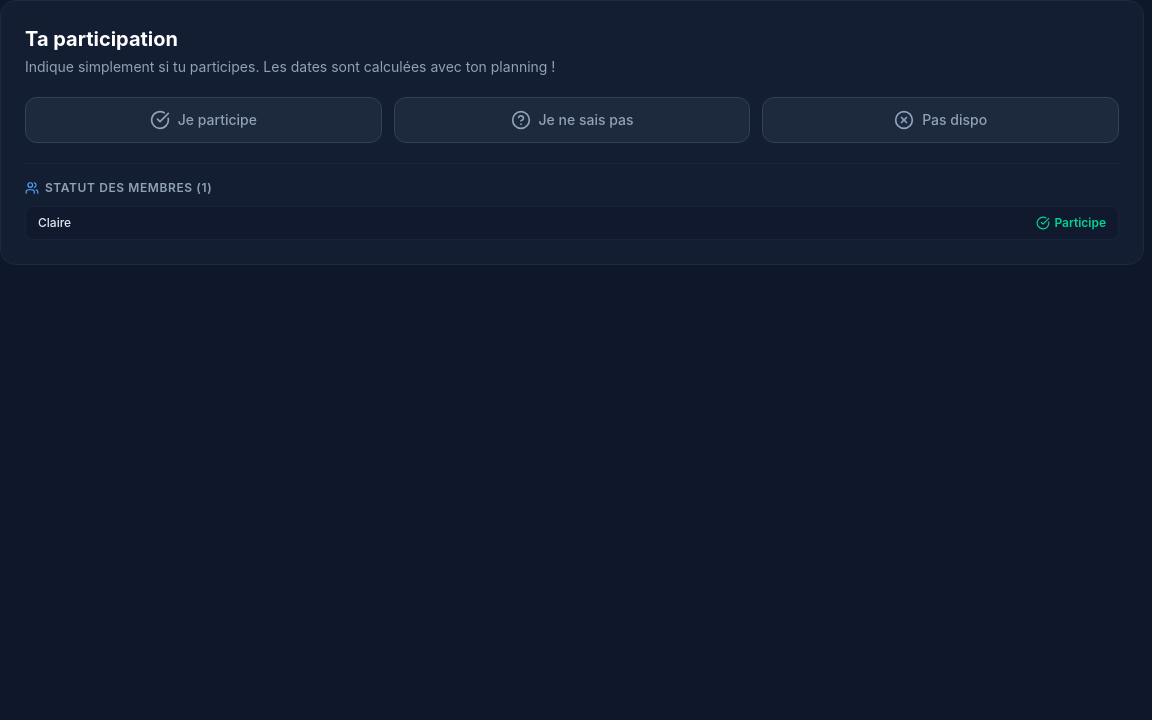
Scenario: UserAvailabilityForm › renders Statut des membres directly below the participation buttons and updates immediately on click
This screenshot has width=1152, height=720.
Later steps or results of the test are not shown.
Expected: the text "Claire" is shown, [38,215,71,231]
# Clic sur "Je participe" : mise à jour optimiste immédiate dans la liste et le compteur
Click the button "Je participe".
click(203, 120)  # box [25,97,382,143]
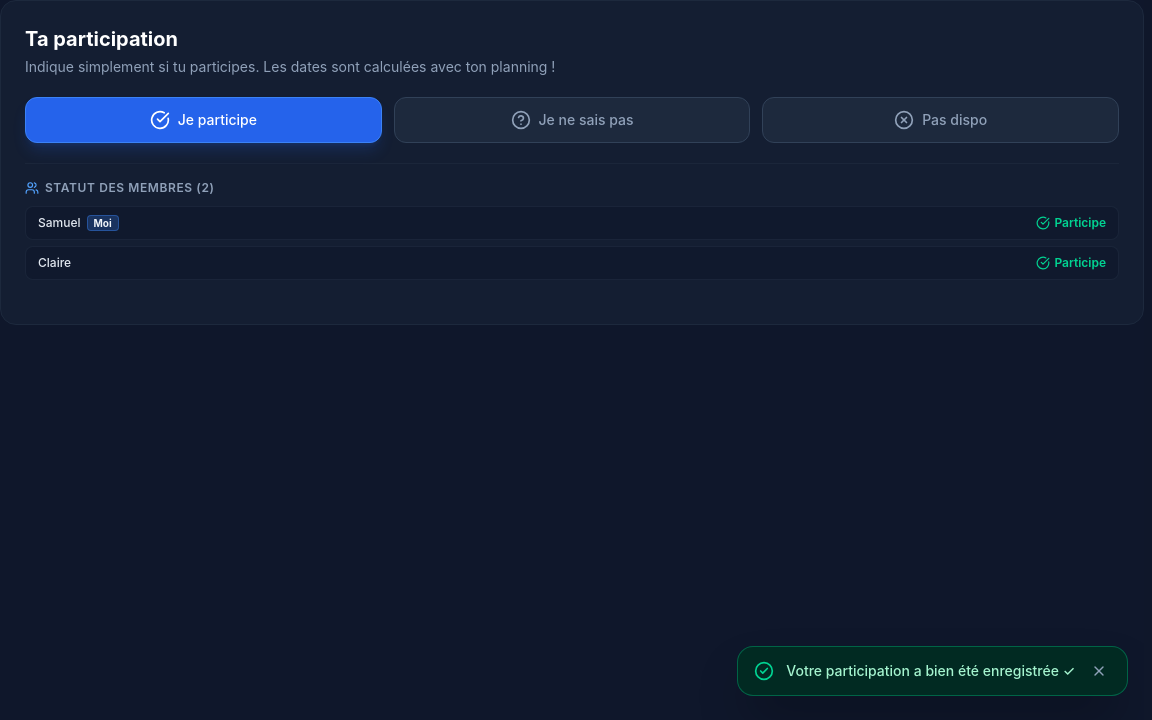
Result: the text "Statut des membres (2)" is shown at [45,180,215,196]
Result: the text "Samuel" is shown at [38,215,80,231]
Result: the text "Moi" is shown at [86,215,119,231]
